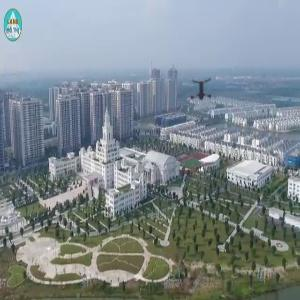drone: (185, 77, 221, 113)
